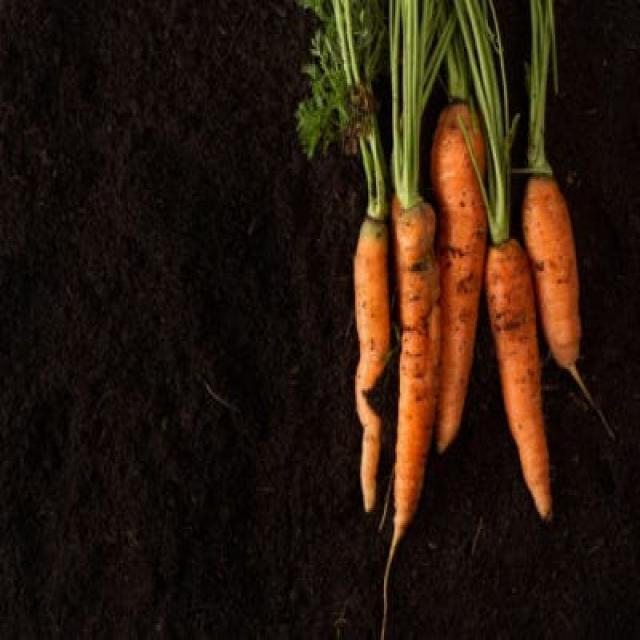Stale_Carrot: (382, 0, 452, 636), (431, 102, 486, 451), (488, 238, 550, 519), (522, 177, 584, 386), (354, 218, 390, 511)
